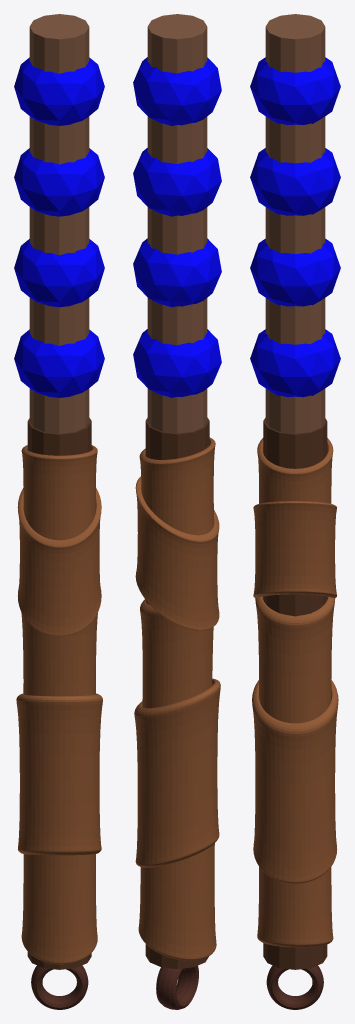
Rendered from Wand 331.glb.
3 views of the same model, side by side, from view 1: azimuth 90°, elevation 25°; view 2: azimuth 150°, elevation 25°; view 3: azimuth 270°, elevation 25° (orthographic).
Parts seen in each view (by area): view 1: GeneratedWand; view 2: GeneratedWand; view 3: GeneratedWand.
Boxes of the visible parts, x1=… form: GeneratedWand: x1=14, y1=14, x2=104, y2=1009; GeneratedWand: x1=133, y1=14, x2=221, y2=1009; GeneratedWand: x1=250, y1=14, x2=340, y2=1009.
Size of the model in its own units: 0.0408 by 0.5107 by 0.0428.
